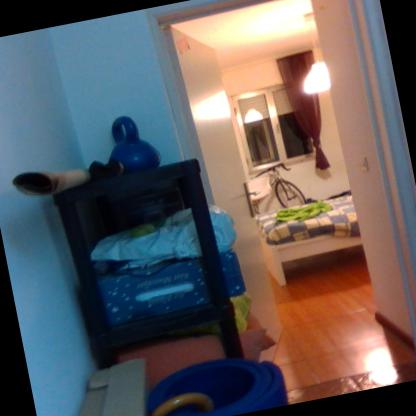open: (141, 0, 415, 414)
